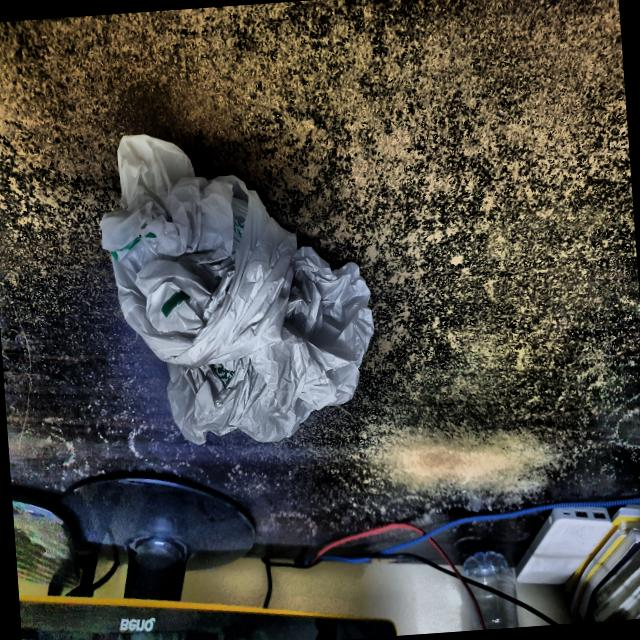plastic bag: (83, 104, 396, 468)
